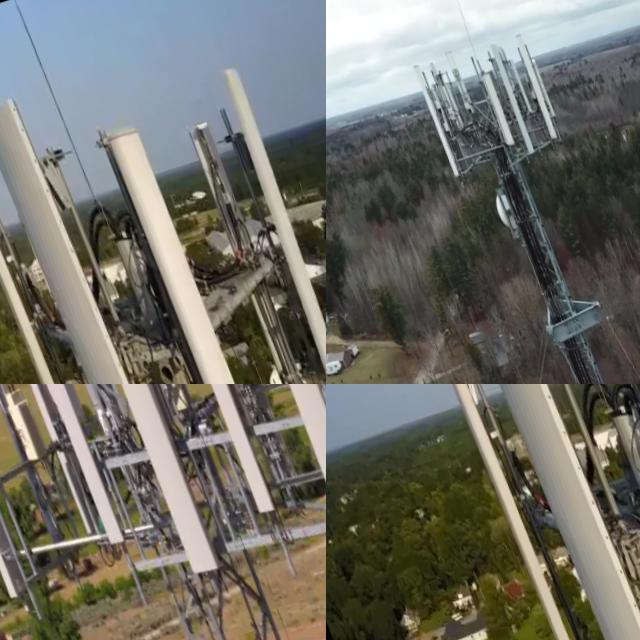GSM Antenna: (0, 84, 204, 384), (87, 115, 311, 384), (434, 384, 640, 640), (431, 384, 591, 640), (201, 61, 326, 381), (179, 118, 314, 384), (72, 384, 224, 590), (24, 384, 135, 560), (0, 186, 91, 384), (228, 384, 326, 553), (172, 384, 281, 529), (0, 384, 96, 536), (0, 384, 69, 544), (0, 384, 36, 617), (480, 33, 537, 167), (404, 58, 460, 178), (506, 29, 558, 145), (175, 384, 271, 431), (470, 66, 517, 154), (438, 48, 480, 129)
Microwave Antenna: (479, 181, 526, 244)
